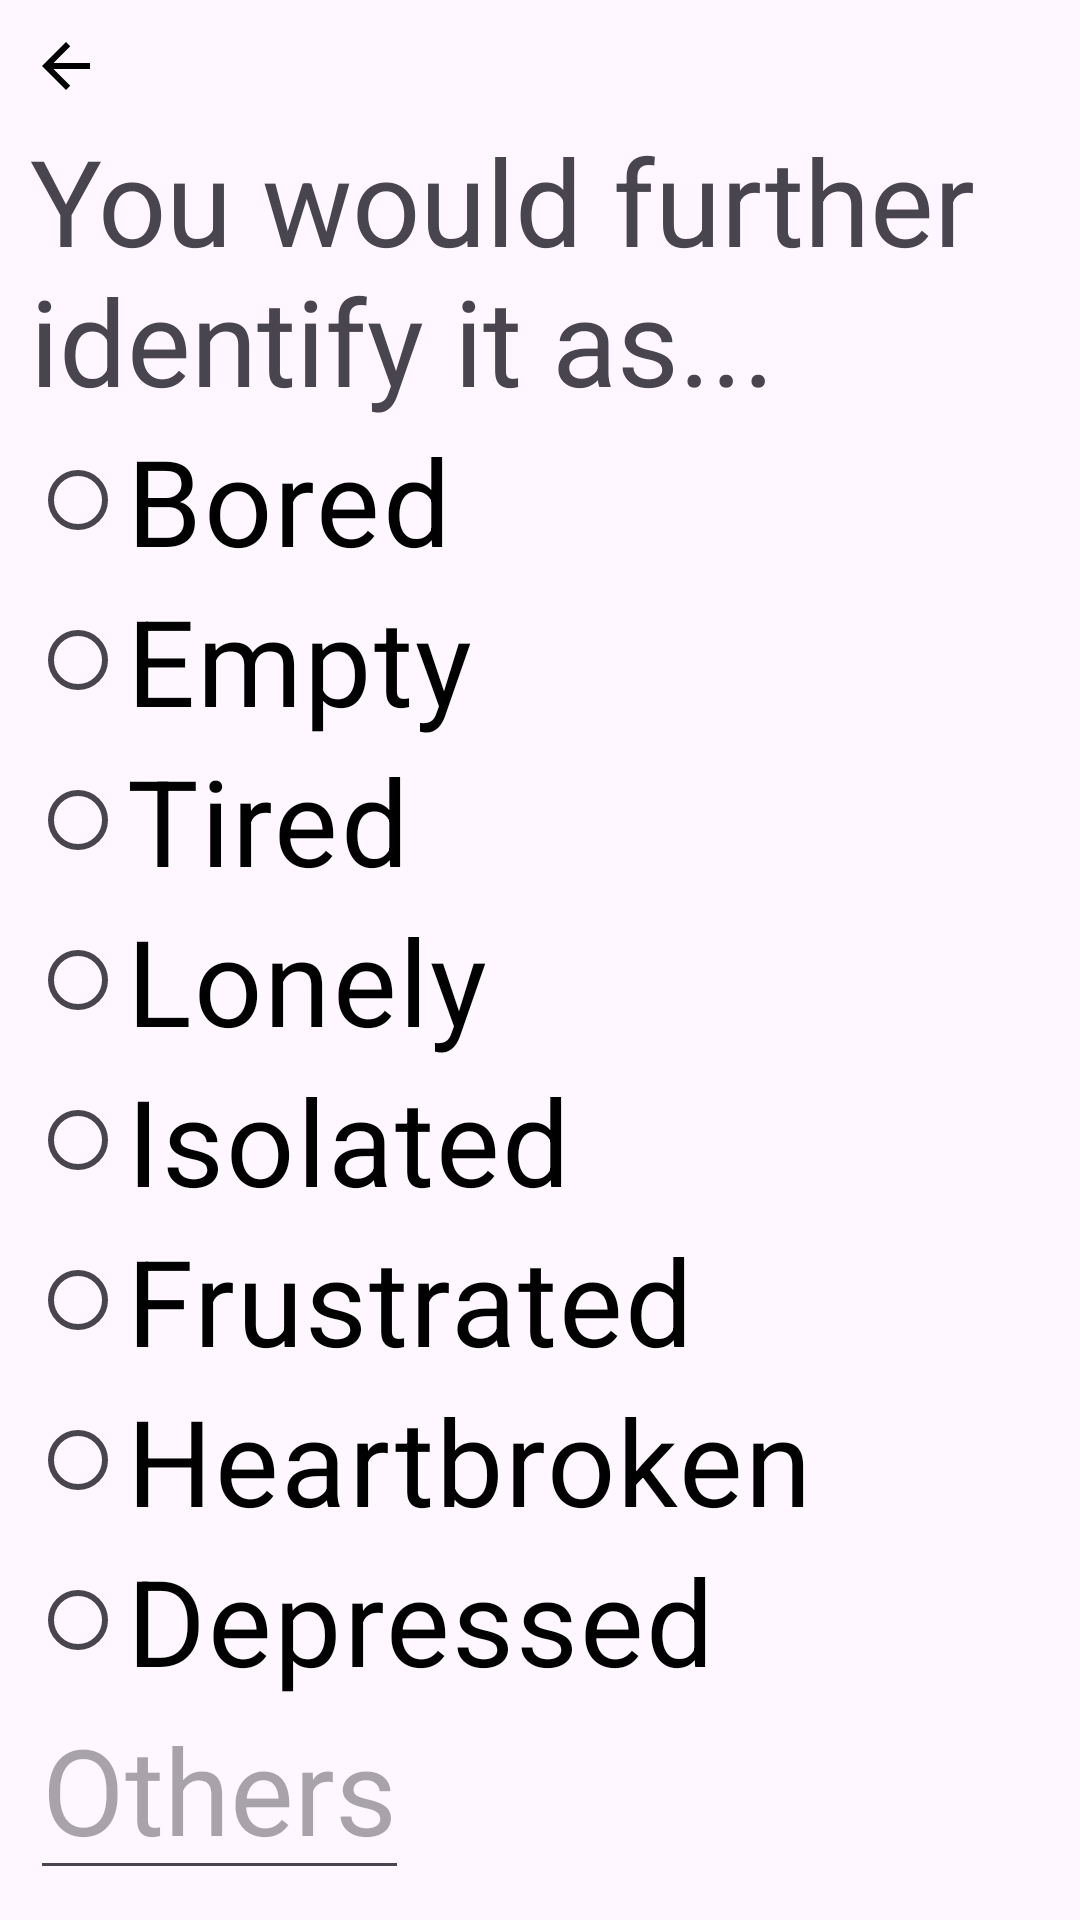

Named icons in this screenshot (1080 × 1920) and their bounding boxes, (x1, y1, x2, y2):
arrow back: (42, 42, 90, 90)
